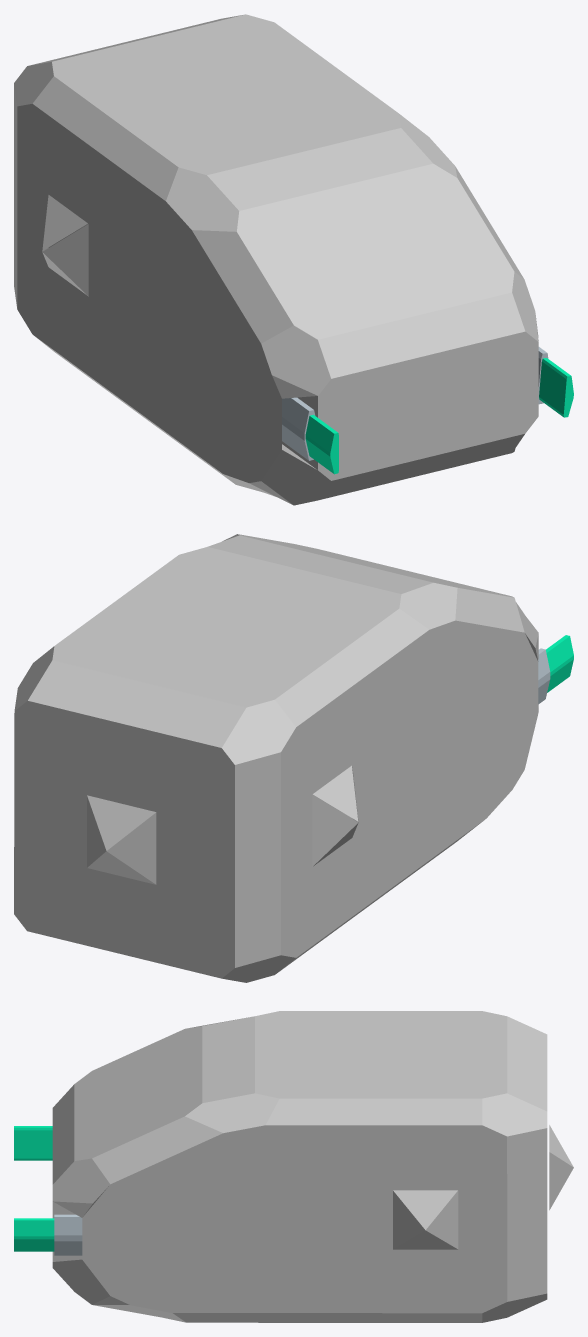
Rendered from Aerion_Nebula_Cab.obj.
3 renders of one model, top to bottom at view 1: azimuth 30°, elevation 25°; view 2: azimuth 150°, elevation 25°; view 3: azimuth 270°, elevation 25°, orthographic. The views are drawn at different scales.
Parts seen in each view (by area): view 1: Cab_Cube.001; view 2: Cab_Cube.001; view 3: Cab_Cube.001.
Part boxes in pixels (left/top/right/bottom): Cab_Cube.001: left=14, top=14, right=573, bottom=505; Cab_Cube.001: left=14, top=534, right=573, bottom=982; Cab_Cube.001: left=14, top=1011, right=573, bottom=1322.
Bounding box in the file's own units: 1.21 × 1 × 2.26.
